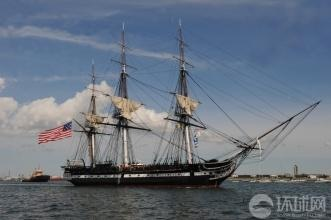fanchuan: (65, 16, 319, 187)
otherboat: (22, 166, 54, 184)
